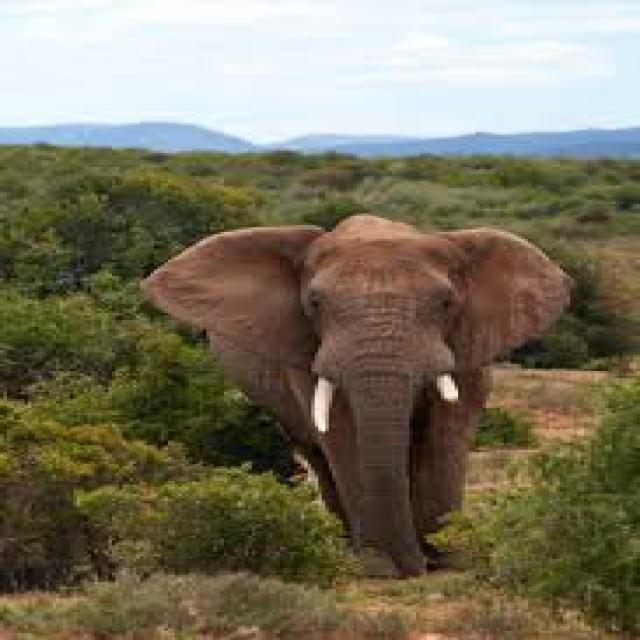Elephant: (140, 211, 573, 577)
